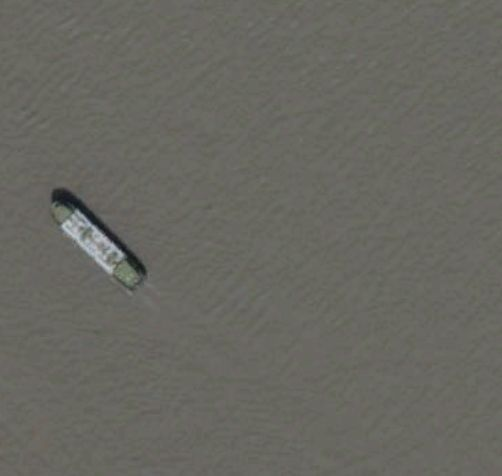boat: (48, 193, 148, 296)
